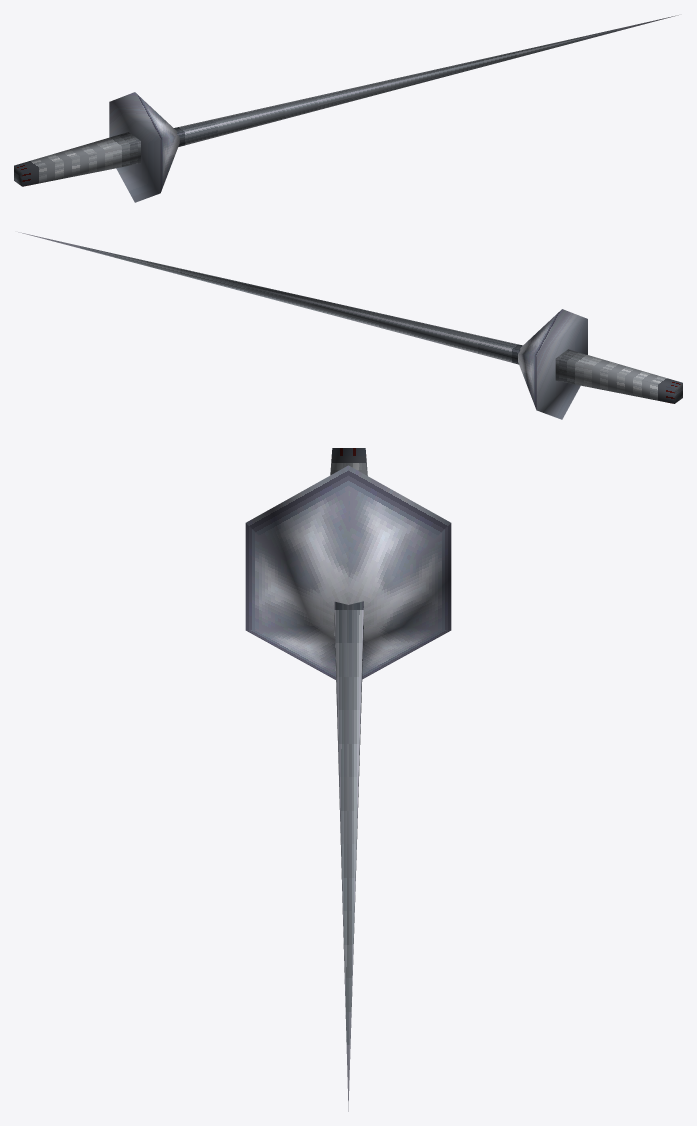
3 renders of one model, top to bottom at view 1: azimuth 30°, elevation 25°; view 2: azimuth 150°, elevation 25°; view 3: azimuth 270°, elevation 25°, orthographic. The views are drawn at different scales.
Visible parts, largest first — view 1: it20; view 2: it20; view 3: it20.
Part boxes in pixels (left/top/right/bottom): it20: left=14, top=15, right=678, bottom=202; it20: left=18, top=232, right=682, bottom=419; it20: left=245, top=448, right=451, bottom=1111.
Size of the model in its own units: 3.61 by 0.5754 by 0.4834.
Materials: 3 (3 with a texture image).
